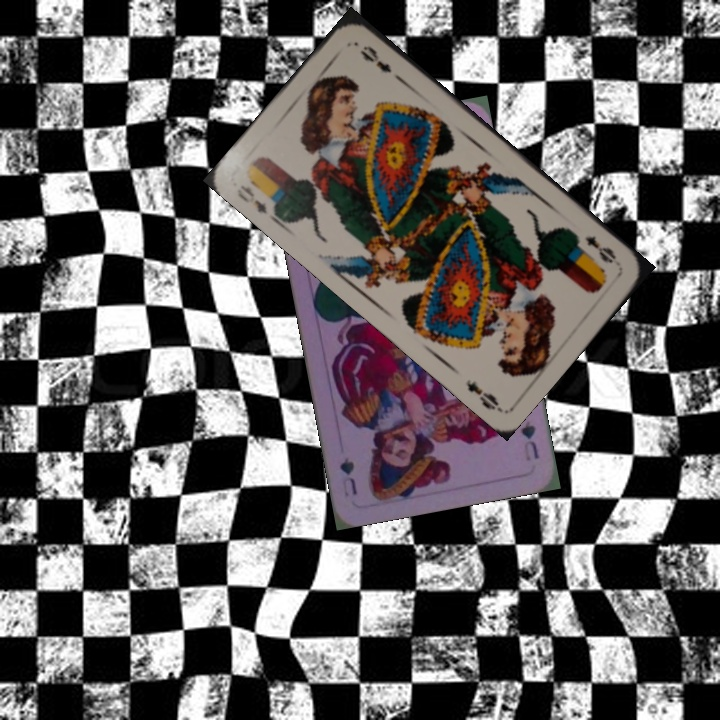EO: (232, 176, 281, 225), (580, 231, 619, 266)
GU: (517, 417, 542, 464)
